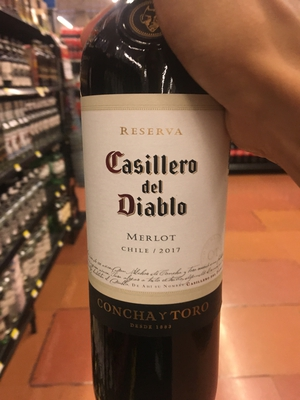casillero del diablo merlot: (67, 12, 242, 400)
